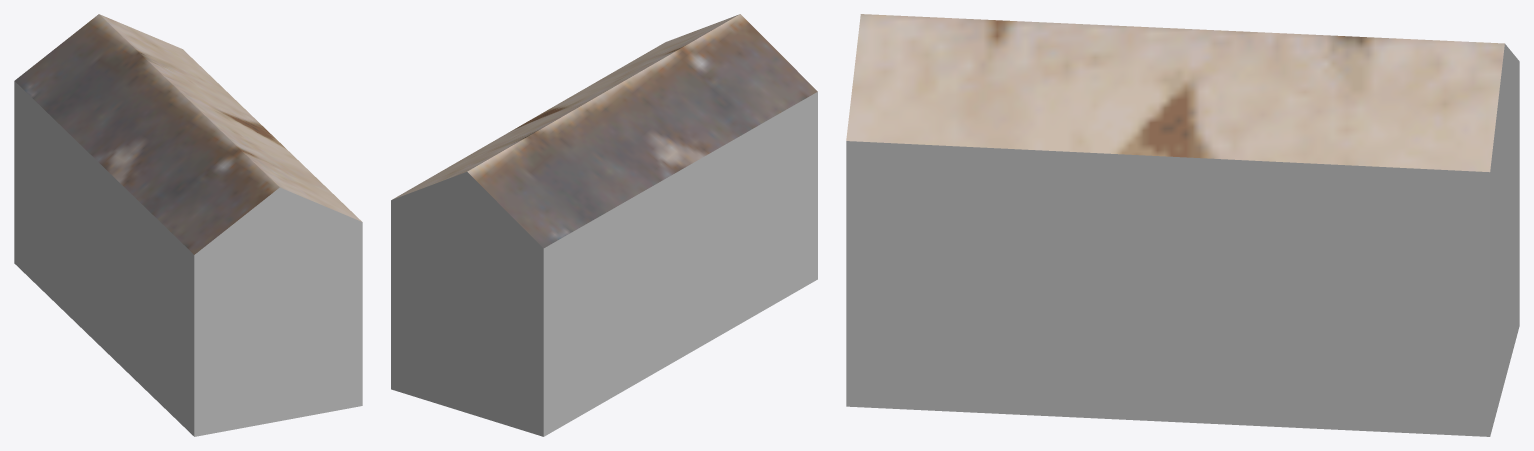
File: DEBW_0010007Txai.gltf
3 views of the same model, side by side, from view 1: azimuth 30°, elevation 25°; view 2: azimuth 150°, elevation 25°; view 3: azimuth 270°, elevation 25° (orthographic). The views are drawn at different scales.
Visible parts, largest first — view 1: Z_UP; view 2: Z_UP; view 3: Z_UP.
Boxes of the visible parts, bbox=[...] form: Z_UP: bbox=[14, 14, 362, 436]; Z_UP: bbox=[391, 14, 817, 436]; Z_UP: bbox=[846, 14, 1519, 436].
Bounding box in the file's own units: 9.62 × 10.7 × 19.32.
Materials: 2 (1 with a texture image).
